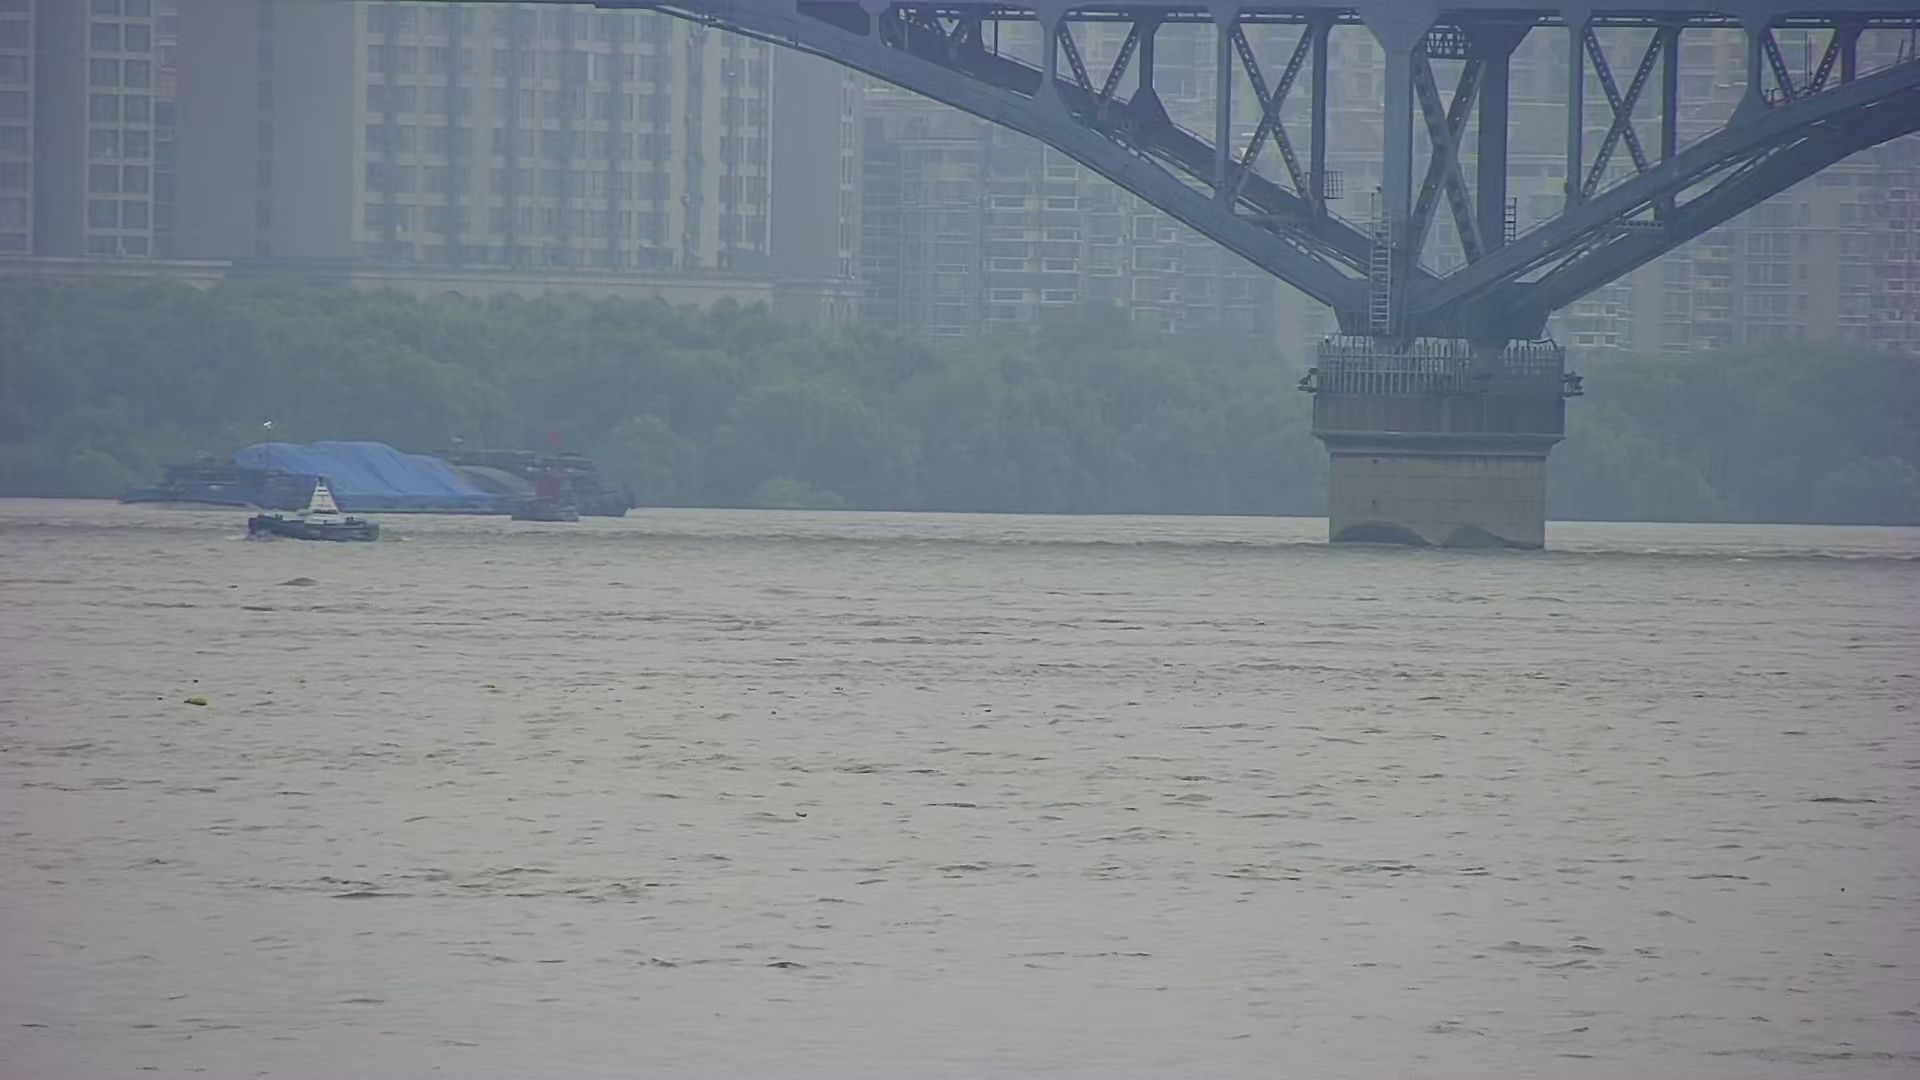boat: (239, 465, 396, 547), (502, 487, 599, 533)
bridge: (592, 1, 1916, 558)
ship: (103, 415, 655, 526)
